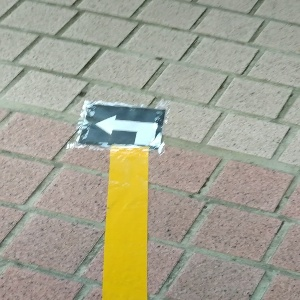left: (79, 104, 165, 150)
